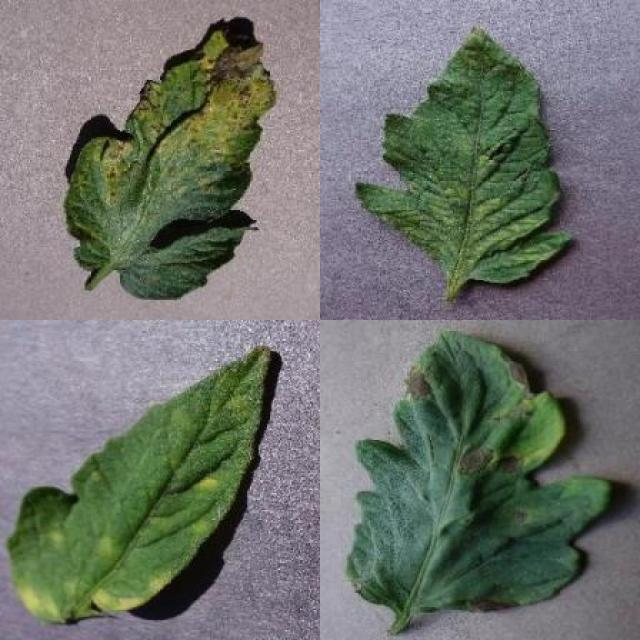Early Blight: (344, 328, 612, 615)
Leaf Mold: (8, 345, 271, 625)
Mosaic Virus: (357, 24, 573, 282)
Septoria: (65, 28, 276, 302)
